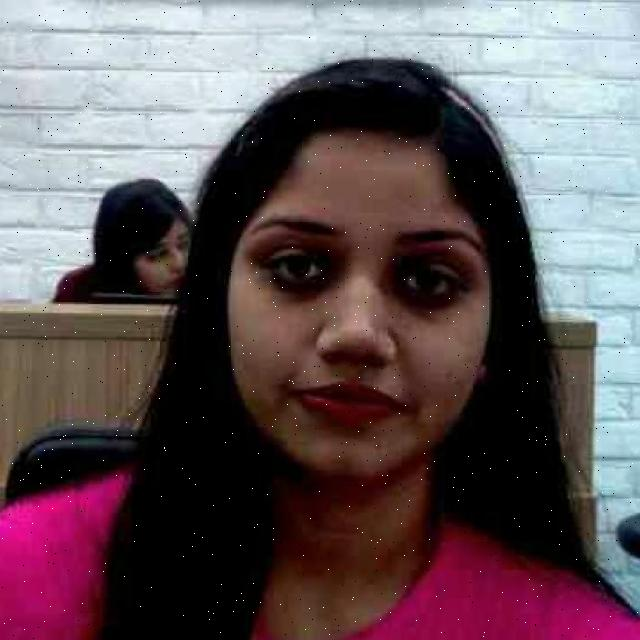puffy_eyes: (273, 249, 347, 304), (388, 281, 464, 310)
